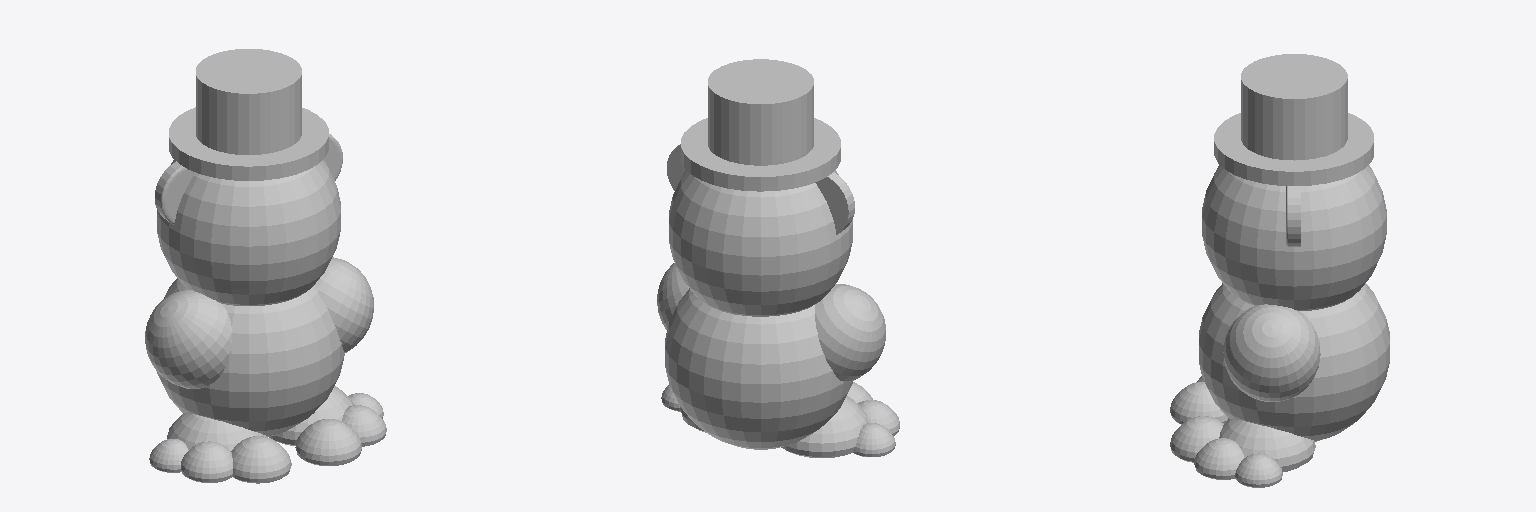
File: Bunny.obj
3 renders of one model, left to right at view 1: azimuth 30°, elevation 25°; view 2: azimuth 150°, elevation 25°; view 3: azimuth 270°, elevation 25°, orthographic.
Parts seen in each view (by area): view 1: face.001_Toy1.008, body.002_Toy1.017, Hat.003_Toy1.003, Hands.001_Toy1.018, Hat.001_Toy1.001, Hat.004_Toy1.004, Hands.003_Toy1.020, Hands.004_Toy1.021, Hat.002_Toy1.002, Hat.006_Toy1.006, Legs.029_Toy1.053, Legs.020_Toy1.044 (+14 smaller); view 2: body.001_Toy1.016, face_Toy1.009, Hat.003_Toy1.003, Hat.001_Toy1.001, Hat.004_Toy1.004, Hands.002_Toy1.019, Hands.003_Toy1.020, Hat.006_Toy1.006, Legs.019_Toy1.043, Hat.002_Toy1.002, Legs.025_Toy1.049, ears.005_Toy1.014 (+3 smaller); view 3: face_Toy1.009, face.001_Toy1.008, body.001_Toy1.016, Hat.002_Toy1.002, body.002_Toy1.017, Hat.001_Toy1.001, Hands_Toy1.023, Hat.004_Toy1.004, Hat.005_Toy1.005, Hands.005_Toy1.022, Hands.004_Toy1.021, Legs.010_Toy1.034 (+9 smaller).
Boxes of the visible parts, <box> form: face.001_Toy1.008: <box>169,160,340,305</box>; body.002_Toy1.017: <box>167,285,344,430</box>; Hat.003_Toy1.003: <box>196,76,270,154</box>; Hands.001_Toy1.018: <box>158,296,231,388</box>; Hat.001_Toy1.001: <box>196,49,301,93</box>; Hat.004_Toy1.004: <box>169,107,328,166</box>; Hands.003_Toy1.020: <box>146,289,208,347</box>; Hands.004_Toy1.021: <box>315,271,373,352</box>; Hat.002_Toy1.002: <box>271,75,301,152</box>; Hat.006_Toy1.006: <box>169,138,281,180</box>; Legs.029_Toy1.053: <box>295,429,352,465</box>; Legs.020_Toy1.044: <box>269,391,348,445</box>; body.001_Toy1.016: <box>665,288,843,441</box>; face_Toy1.009: <box>669,170,840,316</box>; Hat.003_Toy1.003: <box>729,85,813,165</box>; Hat.001_Toy1.001: <box>708,59,813,103</box>; Hat.004_Toy1.004: <box>681,118,840,176</box>; Hands.002_Toy1.019: <box>815,299,883,382</box>; Hands.003_Toy1.020: <box>823,284,885,341</box>; Hat.006_Toy1.006: <box>714,148,840,191</box>; Legs.019_Toy1.043: <box>781,413,847,457</box>; Hat.002_Toy1.002: <box>708,86,728,160</box>; Legs.025_Toy1.049: <box>837,397,869,454</box>; ears.005_Toy1.014: <box>815,177,848,234</box>; face_Toy1.009: <box>1294,165,1386,310</box>; face.001_Toy1.008: <box>1202,165,1293,308</box>; body.001_Toy1.016: <box>1294,283,1389,436</box>; Hat.002_Toy1.002: <box>1241,79,1347,160</box>; body.002_Toy1.017: <box>1199,283,1293,433</box>; Hat.001_Toy1.001: <box>1241,54,1347,98</box>; Hands_Toy1.023: <box>1236,304,1308,367</box>; Hat.004_Toy1.004: <box>1214,113,1373,171</box>; Hat.005_Toy1.005: <box>1214,142,1373,185</box>; Hands.005_Toy1.022: <box>1259,310,1320,401</box>; Hands.004_Toy1.021: <box>1223,304,1264,400</box>; Legs.010_Toy1.034: <box>1235,422,1289,471</box>.
Size of the model in its own units: 9.17 by 13.79 by 7.67.